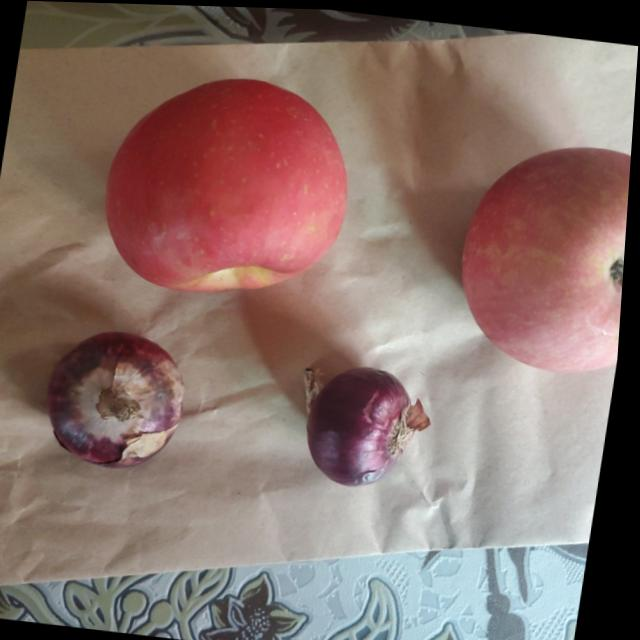apple: (99, 63, 366, 303), (450, 136, 633, 378)
onion: (46, 322, 203, 473), (295, 357, 423, 485)
